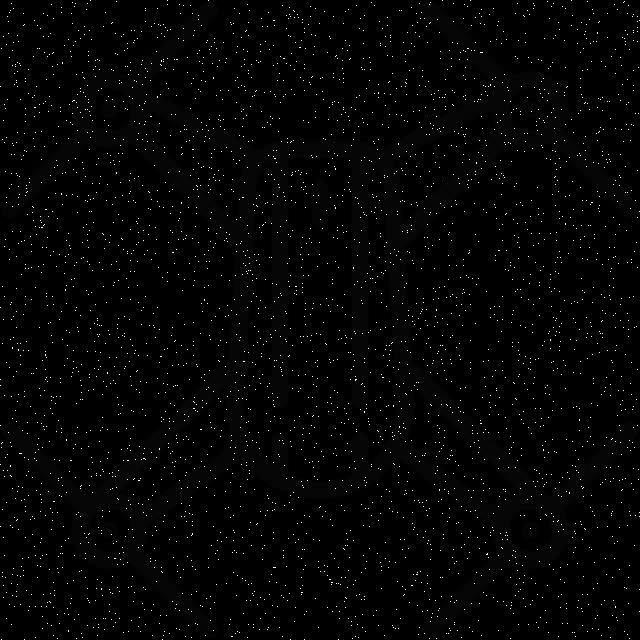nothing: (1, 1, 640, 640)
